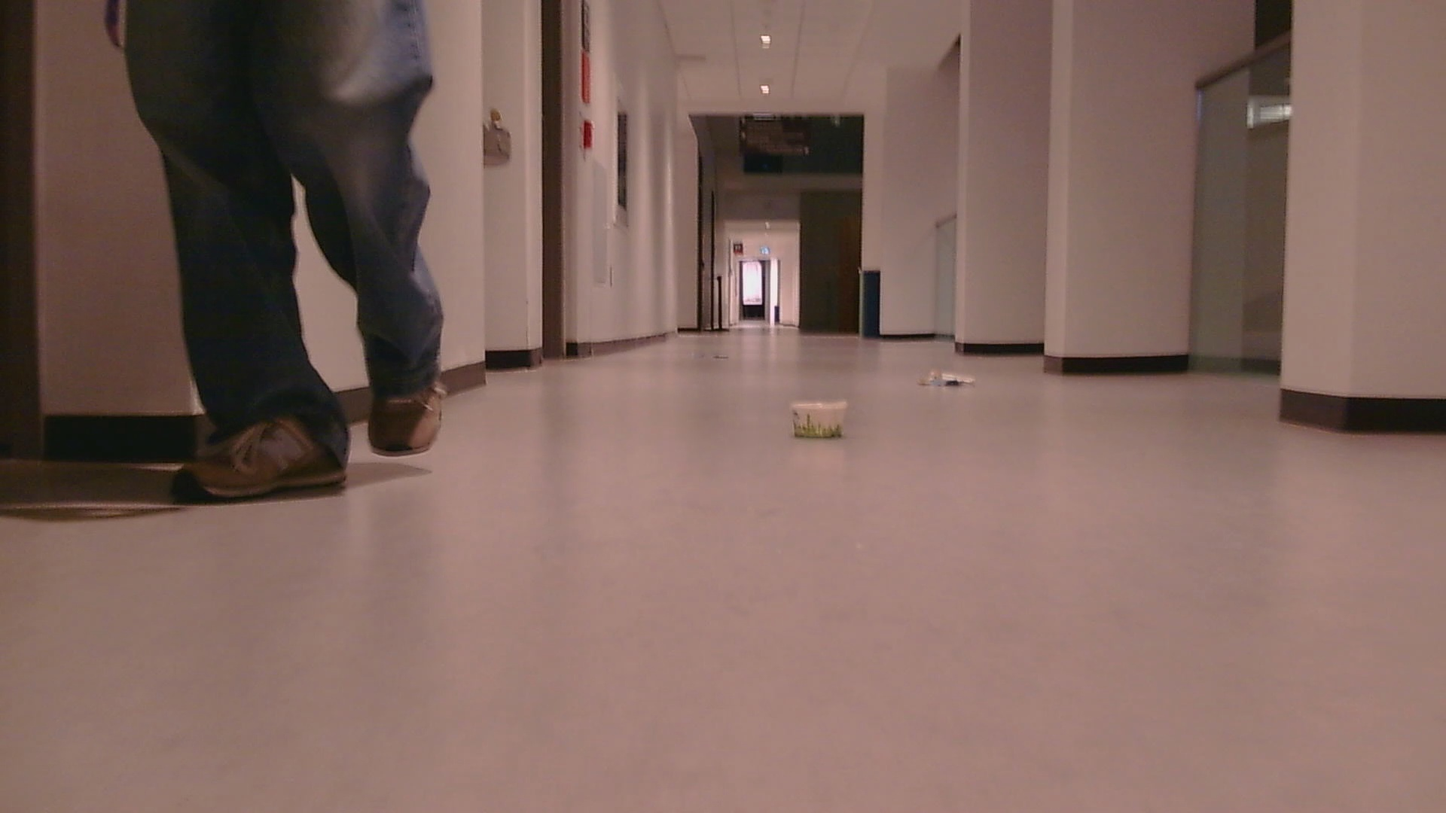carton: (785, 399, 849, 442), (917, 363, 995, 393)
